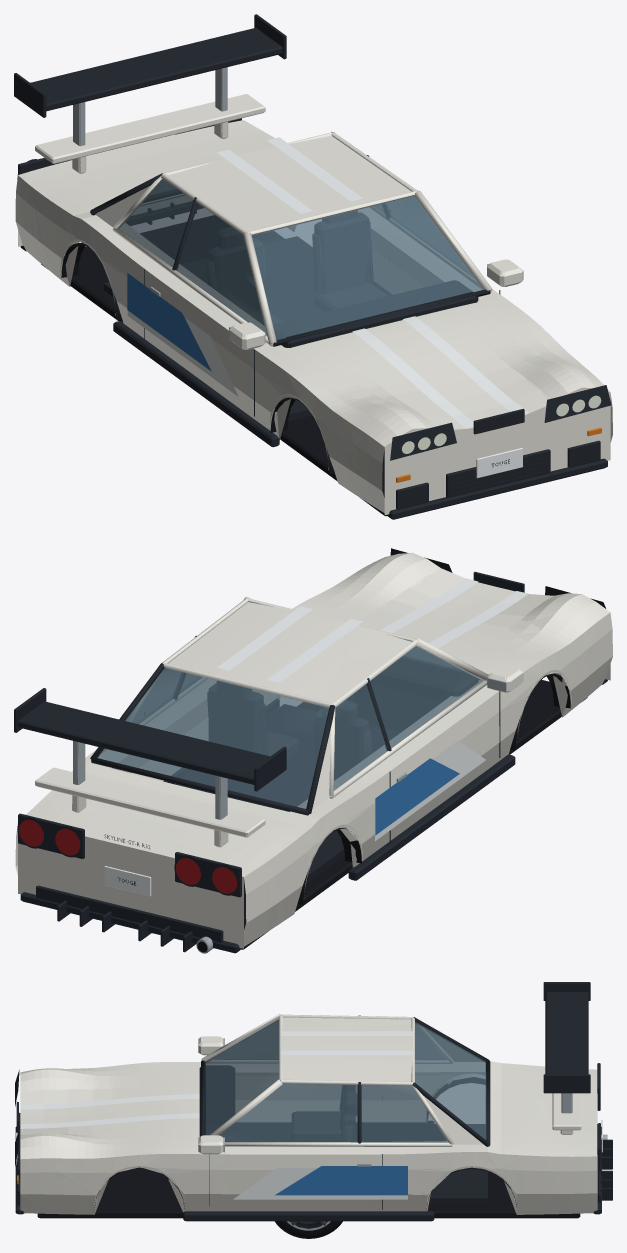
3 renders of one model, top to bottom at view 1: azimuth 30°, elevation 25°; view 2: azimuth 150°, elevation 25°; view 3: azimuth 270°, elevation 25°, orthographic. The views are drawn at different scales.
Parts seen in each view (by area): view 1: LOD0_body, LOD0_glass, LOD1_glass, LOD0_cabin, LOD1_body, LOD0_hood, LOD1_cabin, LOD0_spoiler_gt, LOD1_hood, LOD0_vinyl_apex, LOD1_spoiler_stock, LOD0_vinyl_twin (+3 smaller); view 2: LOD0_body, LOD0_cabin, LOD1_body, LOD0_glass, LOD1_glass, LOD0_spoiler_gt, LOD0_hood, LOD1_cabin, LOD1_hood, LOD0_spoiler_stock, LOD0_vinyl_apex, LOD1_spoiler_gt (+3 smaller); view 3: LOD0_body, LOD1_glass, LOD0_glass, LOD0_cabin, LOD1_body, LOD0_hood, LOD1_cabin, LOD0_spoiler_gt, LOD1_hood, LOD0_vinyl_apex, LOD1_spoiler_gt, LOD0_vinyl_twin (+5 smaller).
Part boxes in pixels (x1,y1,x2,y2): LOD0_body: (15,118,612,519); LOD0_glass: (119,179,483,339); LOD1_glass: (119,179,482,339); LOD0_cabin: (90,132,492,420); LOD1_body: (16,120,612,519); LOD0_hood: (276,298,595,435); LOD1_cabin: (90,132,491,420); LOD0_spoiler_gt: (14,14,286,146); LOD1_hood: (300,308,568,429); LOD0_vinyl_apex: (127,273,238,396); LOD1_spoiler_stock: (35,94,265,173); LOD0_vinyl_twin: (217,137,513,422); LOD0_body: (16,548,612,953); LOD0_cabin: (90,596,488,883); LOD1_body: (15,573,612,953); LOD0_glass: (97,646,482,808); LOD1_glass: (97,646,482,808); LOD0_spoiler_gt: (14,688,286,819); LOD0_hood: (308,552,595,682); LOD1_cabin: (90,598,459,882); LOD1_hood: (333,558,568,656); LOD0_spoiler_stock: (35,767,265,847); LOD0_vinyl_apex: (375,740,485,841); LOD1_spoiler_gt: (14,688,269,819); LOD0_body: (15,1036,612,1221); LOD1_glass: (205,1020,486,1142); LOD0_glass: (205,1019,486,1142); LOD0_cabin: (199,1014,490,1203); LOD1_body: (16,1036,607,1220); LOD0_hood: (20,1067,199,1150); LOD1_cabin: (200,1014,489,1203); LOD0_spoiler_gt: (543,982,590,1113); LOD1_hood: (20,1069,189,1144); LOD0_vinyl_apex: (233,1166,407,1199); LOD1_spoiler_gt: (543,983,590,1112); LOD0_vinyl_twin: (22,1031,412,1128).
Bounding box in the file's own units: 2.02 × 1.79 × 4.72.
